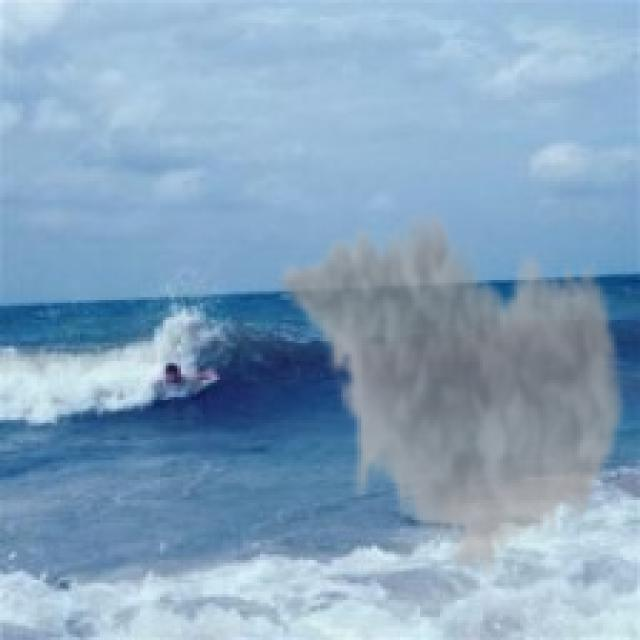Smoke: (274, 200, 629, 586)
